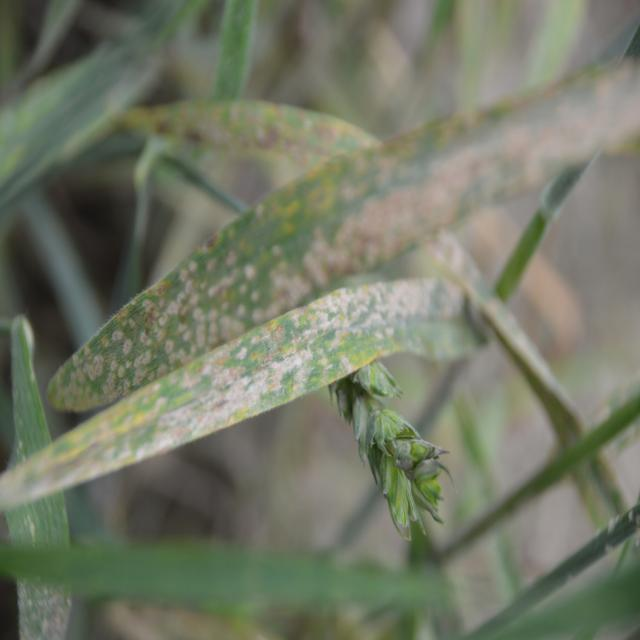wheat-powdery-mildew: (29, 61, 640, 414), (0, 281, 482, 508)
